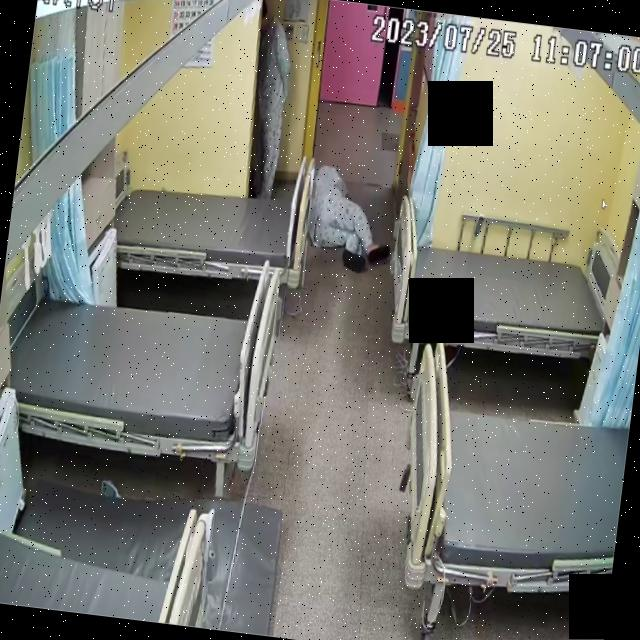bed: (389, 336, 637, 606), (0, 280, 278, 463), (380, 221, 627, 368), (110, 168, 310, 288)
fall: (302, 154, 402, 278)
patient: (241, 0, 299, 199), (304, 156, 400, 276)
